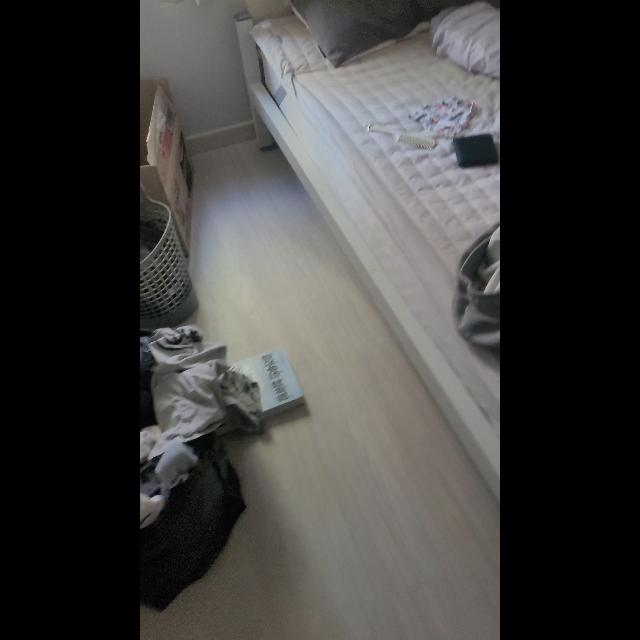COMB: (368, 122, 437, 148)
Glasses cleaning cloth: (408, 95, 480, 139)
WALLET: (453, 132, 499, 168)
